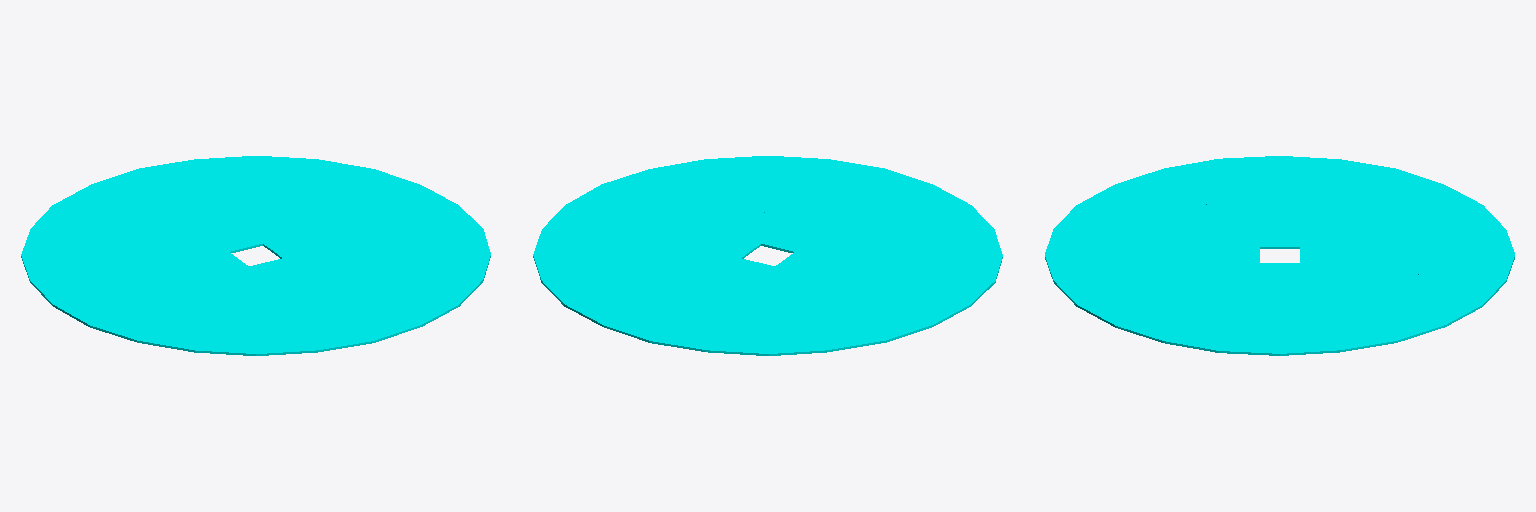
Rendered from BreakableGlass.obj.
The picture shows the model from 3 angles: view 1: azimuth 30°, elevation 25°; view 2: azimuth 150°, elevation 25°; view 3: azimuth 270°, elevation 25°; orthographic projection.
Visible parts, largest first — view 1: ShatterFloor crackShatter crackShatter11 crackShatter12 crackSha, ShatterFloor crackShatter crackShatter11 crackShatter crackShatt, ShatterFloor crackShatter shard236 crackShatter14, ShatterFloor crackShatter16 crackShatter shard278, ShatterFloor crackShatter crackShatter11 shard174, ShatterFloor crackShatter crackShatter11 shard181, ShatterFloor crackShatter crackShatter crackShatter25 shard420, ShatterFloor crackShatter crackShatter shard169, ShatterFloor crackShatter crackShatter11 shard206 crackShatter12, ShatterFloor crackShatter crackShatter11 crackShatter20 shard342, ShatterFloor crackShatter crackShatter11 crackShatter12 shard211, ShatterFloor crackShatter crackShatter14 crackShatter shard403 (+28 smaller); view 2: ShatterFloor crackShatter crackShatter11 crackShatter12 crackSha, ShatterFloor crackShatter crackShatter11 crackShatter crackShatt, ShatterFloor crackShatter shard236 crackShatter14, ShatterFloor crackShatter crackShatter11 shard174, ShatterFloor crackShatter16 crackShatter shard278, ShatterFloor crackShatter crackShatter11 shard181, ShatterFloor crackShatter crackShatter crackShatter25 shard420, ShatterFloor crackShatter crackShatter11 crackShatter20 shard342, ShatterFloor crackShatter crackShatter shard169, ShatterFloor crackShatter crackShatter11 crackShatter12 shard211, ShatterFloor crackShatter crackShatter14 crackShatter shard403, ShatterFloor crackShatter crackShatter11 shard206 crackShatter12 (+28 smaller); view 3: ShatterFloor crackShatter crackShatter11 crackShatter12 crackSha, ShatterFloor crackShatter crackShatter11 crackShatter crackShatt, ShatterFloor crackShatter shard236 crackShatter14, ShatterFloor crackShatter16 crackShatter shard278, ShatterFloor crackShatter crackShatter11 shard174, ShatterFloor crackShatter crackShatter11 shard181, ShatterFloor crackShatter crackShatter crackShatter25 shard420, ShatterFloor crackShatter crackShatter shard169, ShatterFloor crackShatter crackShatter11 crackShatter12 shard211, ShatterFloor crackShatter crackShatter11 crackShatter20 shard342, ShatterFloor crackShatter crackShatter11 shard206 crackShatter12, ShatterFloor crackShatter crackShatter14 crackShatter shard403 (+28 smaller).
Boxes of the visible parts, <box> form: ShatterFloor crackShatter crackShatter11 crackShatter12 crackSha: <box>235,165,409,246</box>; ShatterFloor crackShatter crackShatter11 crackShatter crackShatt: <box>30,208,228,251</box>; ShatterFloor crackShatter shard236 crackShatter14: <box>326,300,448,339</box>; ShatterFloor crackShatter16 crackShatter shard278: <box>290,311,368,352</box>; ShatterFloor crackShatter crackShatter11 shard174: <box>43,252,227,305</box>; ShatterFloor crackShatter crackShatter11 shard181: <box>169,159,228,250</box>; ShatterFloor crackShatter crackShatter crackShatter25 shard420: <box>300,256,427,279</box>; ShatterFloor crackShatter crackShatter shard169: <box>429,227,490,277</box>; ShatterFloor crackShatter crackShatter11 shard206 crackShatter12: <box>234,189,279,252</box>; ShatterFloor crackShatter crackShatter11 crackShatter20 shard342: <box>21,232,94,257</box>; ShatterFloor crackShatter crackShatter11 crackShatter12 shard211: <box>234,156,312,188</box>; ShatterFloor crackShatter crackShatter14 crackShatter shard403: <box>266,259,383,292</box>; ShatterFloor crackShatter crackShatter11 crackShatter12 crackSha: <box>533,235,738,295</box>; ShatterFloor crackShatter crackShatter11 crackShatter crackShatt: <box>746,267,833,355</box>; ShatterFloor crackShatter shard236 crackShatter14: <box>785,157,872,205</box>; ShatterFloor crackShatter crackShatter11 shard174: <box>779,267,970,314</box>; ShatterFloor crackShatter16 crackShatter shard278: <box>847,170,938,209</box>; ShatterFloor crackShatter crackShatter11 shard181: <box>599,267,772,333</box>; ShatterFloor crackShatter crackShatter crackShatter25 shard420: <box>701,180,750,237</box>; ShatterFloor crackShatter crackShatter11 crackShatter20 shard342: <box>826,313,890,350</box>; ShatterFloor crackShatter crackShatter shard169: <box>600,166,726,185</box>; ShatterFloor crackShatter crackShatter11 crackShatter12 shard211: <box>542,281,641,308</box>; ShatterFloor crackShatter crackShatter14 crackShatter shard403: <box>762,190,790,249</box>; ShatterFloor crackShatter crackShatter11 shard206 crackShatter12: <box>647,250,762,294</box>; ShatterFloor crackShatter crackShatter11 crackShatter12 crackSha: <box>1284,268,1425,349</box>; ShatterFloor crackShatter crackShatter11 crackShatter crackShatt: <box>1301,183,1476,246</box>; ShatterFloor crackShatter shard236 crackShatter14: <box>1047,258,1150,298</box>; ShatterFloor crackShatter16 crackShatter shard278: <box>1045,225,1130,253</box>; ShatterFloor crackShatter crackShatter11 shard174: <box>1273,156,1304,245</box>; ShatterFloor crackShatter crackShatter11 shard181: <box>1304,247,1509,283</box>; ShatterFloor crackShatter crackShatter crackShatter25 shard420: <box>1147,270,1252,305</box>; ShatterFloor crackShatter crackShatter shard169: <box>1146,307,1224,352</box>; ShatterFloor crackShatter crackShatter11 crackShatter12 shard211: <box>1426,280,1486,325</box>; ShatterFloor crackShatter crackShatter11 crackShatter20 shard342: <box>1359,168,1439,195</box>; ShatterFloor crackShatter crackShatter11 shard206 crackShatter12: <box>1280,253,1424,279</box>; ShatterFloor crackShatter crackShatter14 crackShatter shard403: <box>1142,255,1259,284</box>.
Size of the model in its own units: 2855 by 16.87 by 2868.